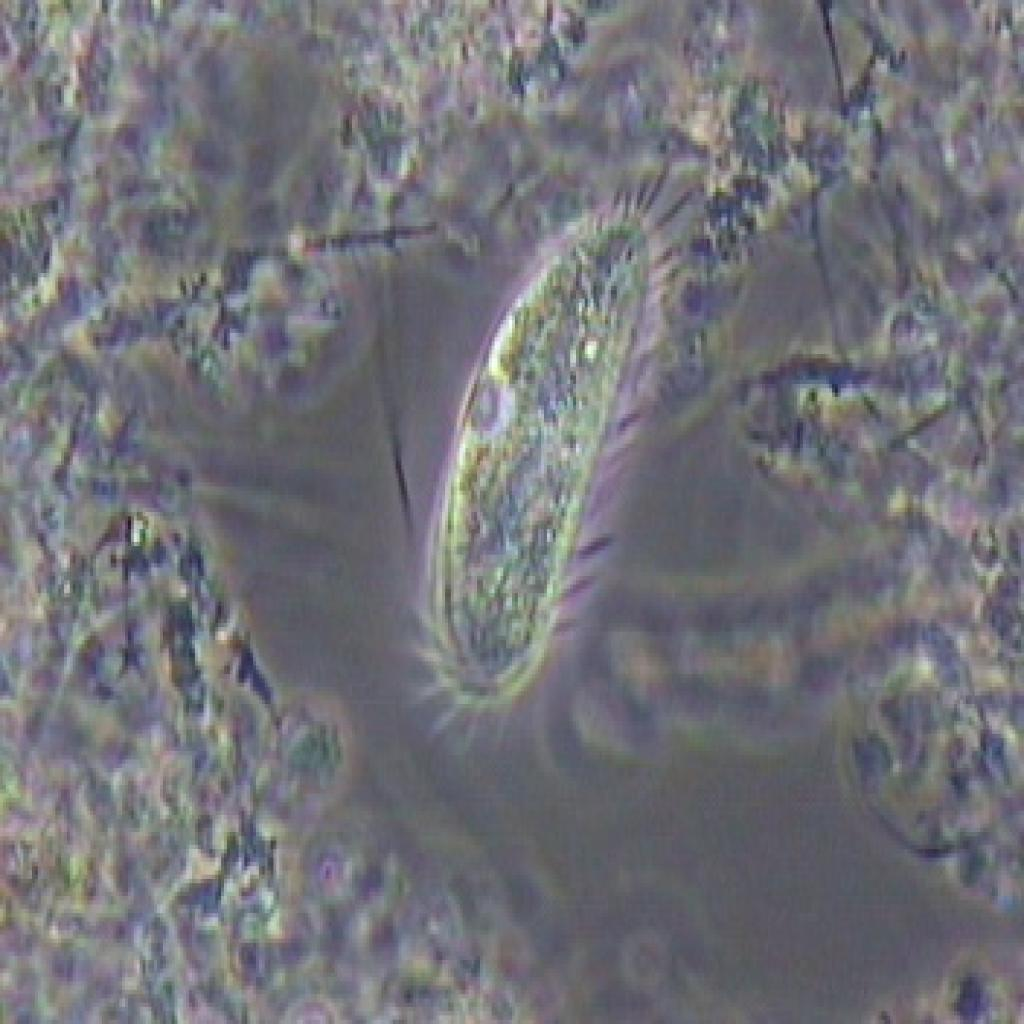Stylonychia: (348, 156, 723, 736)
